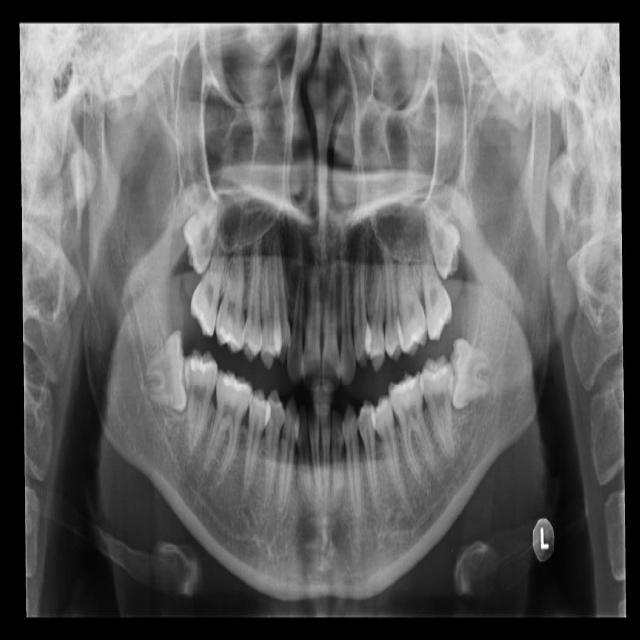3M ESPE Implant: (170, 175, 236, 276)
52: (201, 365, 260, 423), (380, 366, 438, 425), (412, 354, 463, 410), (393, 299, 433, 359), (179, 347, 221, 399), (186, 278, 221, 338), (422, 284, 456, 341), (215, 302, 245, 354)
73: (606, 550, 610, 556)
BioHorizons Implant: (416, 220, 455, 342)
BioLife Implant: (418, 188, 470, 283)
Biomet 3i Implant: (444, 336, 495, 410)
Blue Sky Bio Implant: (419, 354, 456, 460)
Caries: (184, 216, 235, 338)
Implant: (183, 348, 222, 456)
Keystone Dental Implant: (142, 330, 191, 413)
